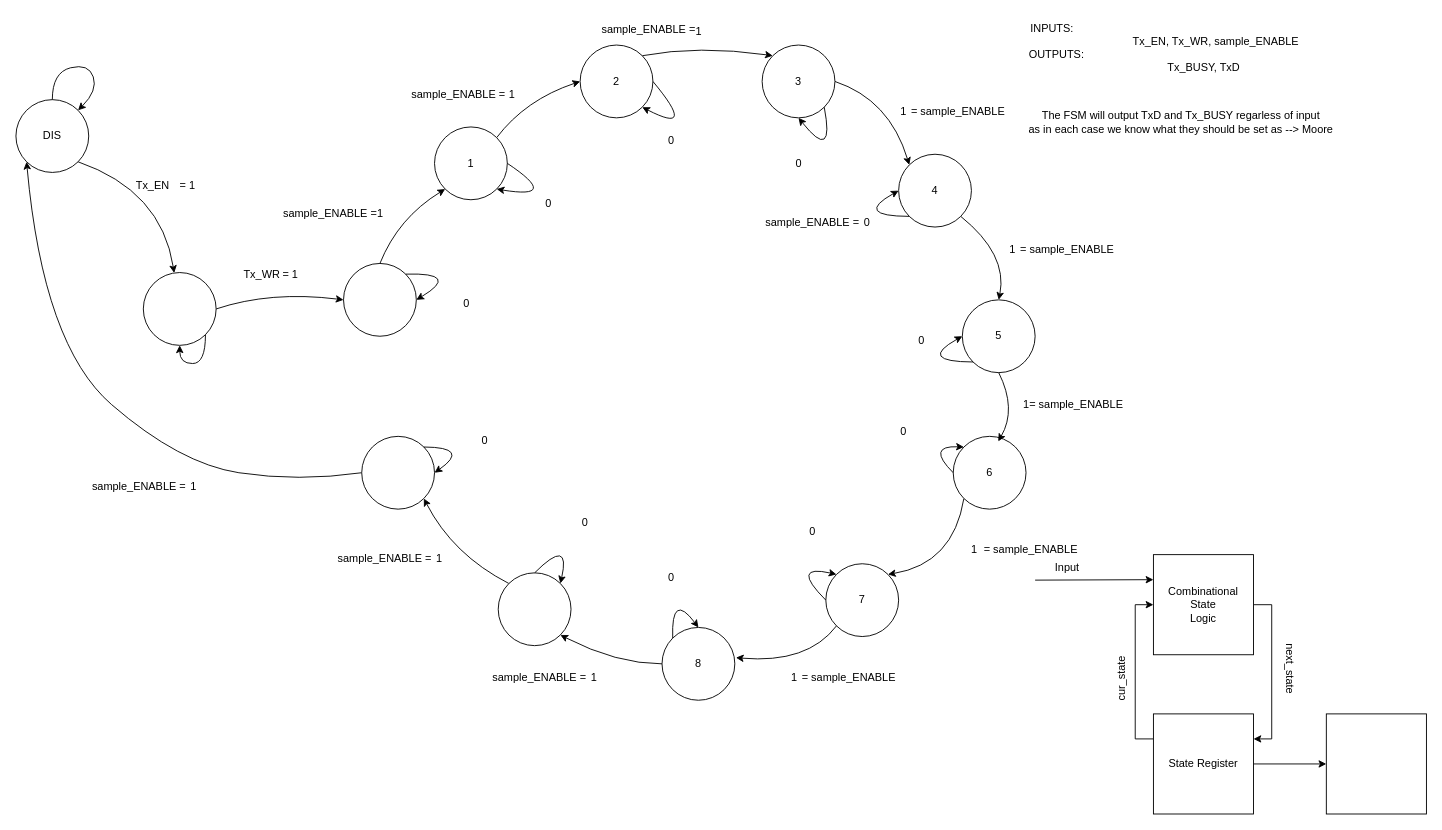
This 1442x830 diagram has some shape labels left out. Here are the shapes that lost their labels. From the top down, the centre of each, then its label:
the point at 179,308: IDLE
the point at 379,299: START
the point at 398,472: END
the point at 534,609: PARITY
the point at 1375,763: Combinational Output Logic
